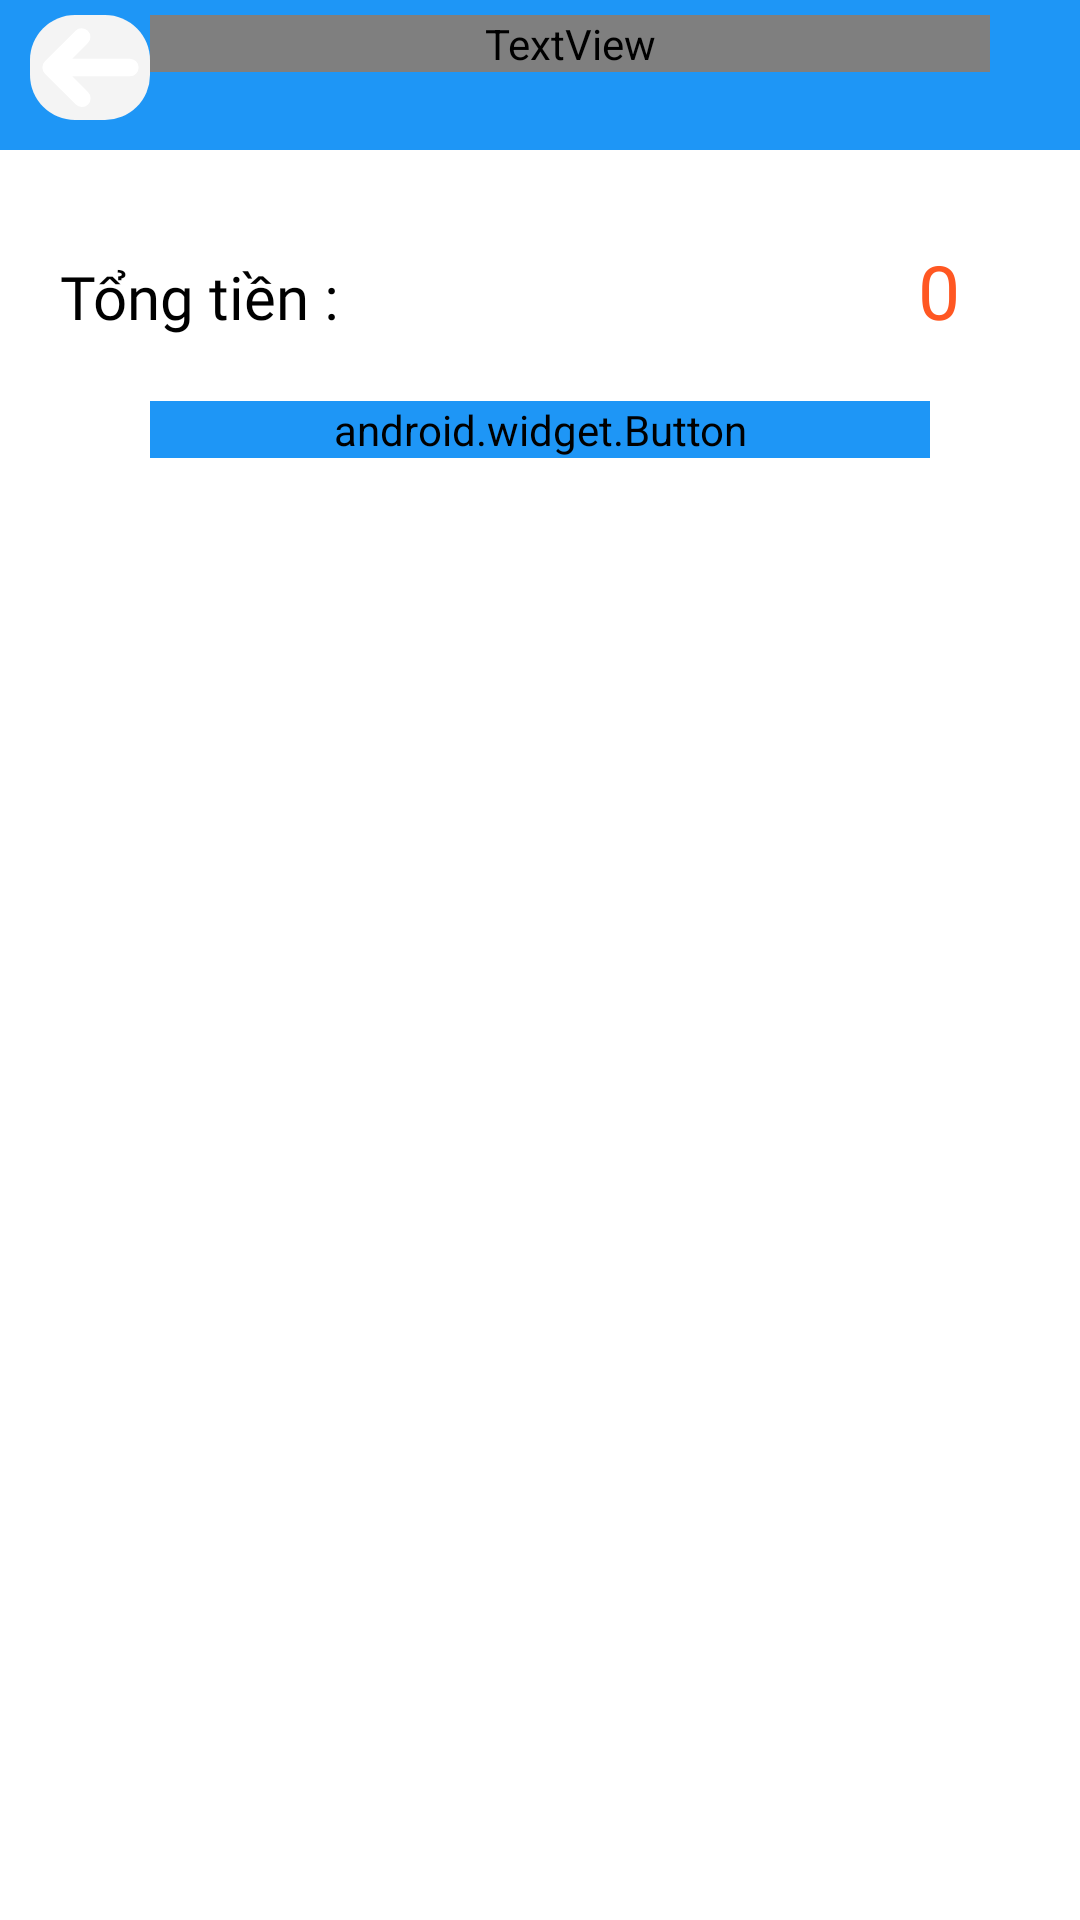

Icons on this 1080×1920 Android screen, each with its box as BBox(x1, y1, x2, y2):
left: BBox(30, 15, 150, 120)
